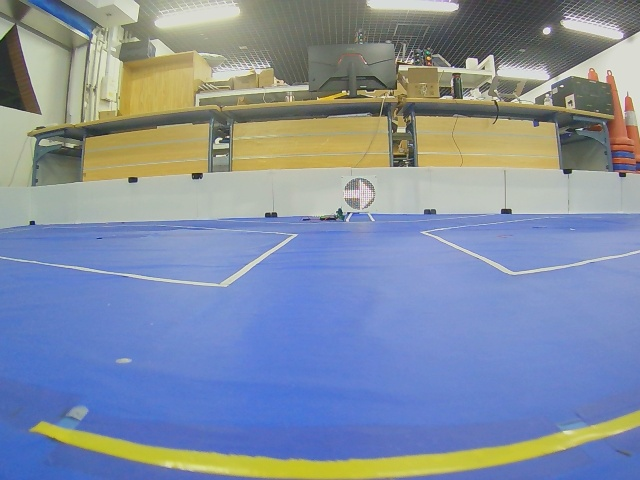right_yellow: (343, 177, 376, 211)
